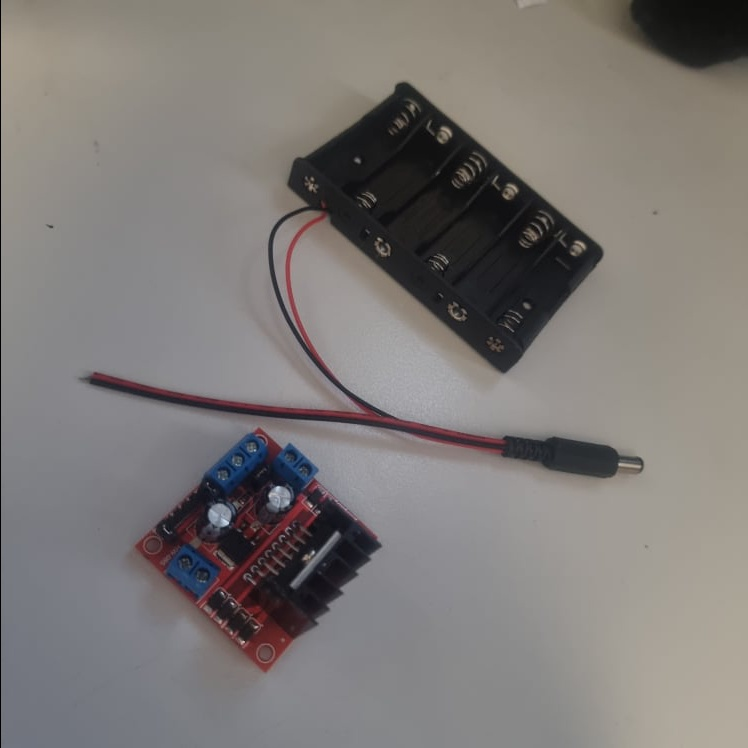BATTERY BOX: (284, 81, 601, 374)
MOTOR: (132, 423, 380, 675)
